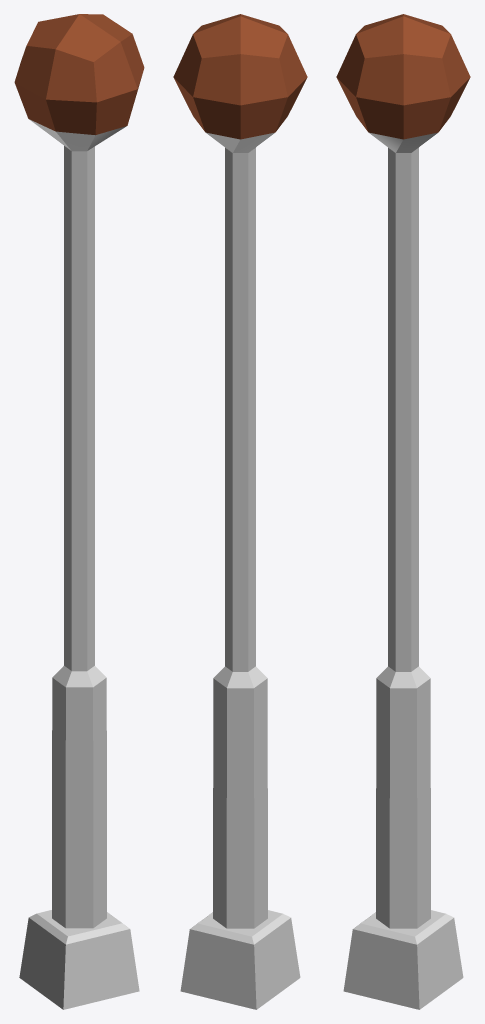
The model's file is Lamp_fixed.fbx.
3 views of the same model, side by side, from view 1: azimuth 30°, elevation 25°; view 2: azimuth 150°, elevation 25°; view 3: azimuth 330°, elevation 25° (orthographic).
Visible parts, largest first — view 1: lamp_city; view 2: lamp_city; view 3: lamp_city.
Part boxes in pixels (left/top/right/bottom): lamp_city: left=14, top=14, right=144, bottom=1009; lamp_city: left=173, top=14, right=307, bottom=1009; lamp_city: left=336, top=14, right=470, bottom=1009.
Bounding box in the file's own units: 81.21 × 669 × 81.21.
